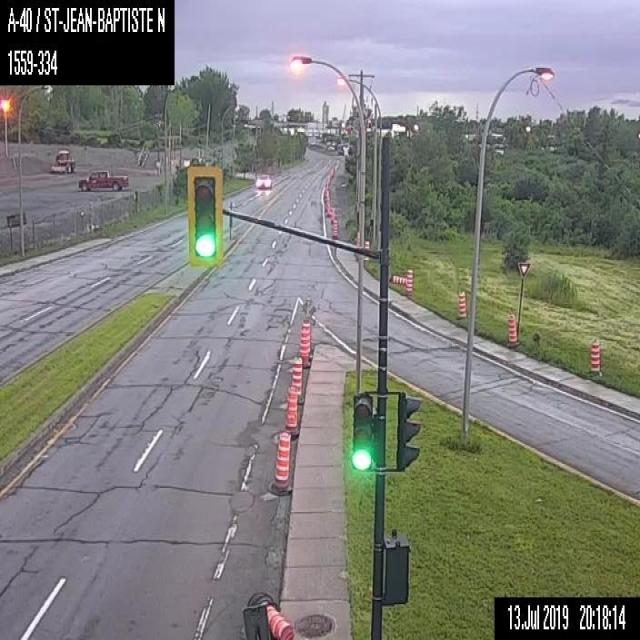construction: (241, 589, 293, 639), (272, 430, 290, 494), (283, 388, 297, 436), (289, 354, 303, 398), (500, 312, 518, 345), (300, 319, 311, 363), (587, 340, 599, 375), (456, 289, 466, 320), (406, 268, 414, 293), (390, 274, 406, 284), (364, 239, 369, 259), (333, 220, 337, 236), (326, 198, 330, 214), (330, 206, 334, 222), (325, 183, 329, 199), (356, 230, 359, 247), (268, 634, 272, 638)
vehicle: (77, 169, 127, 192), (49, 148, 74, 172), (254, 172, 271, 188)
